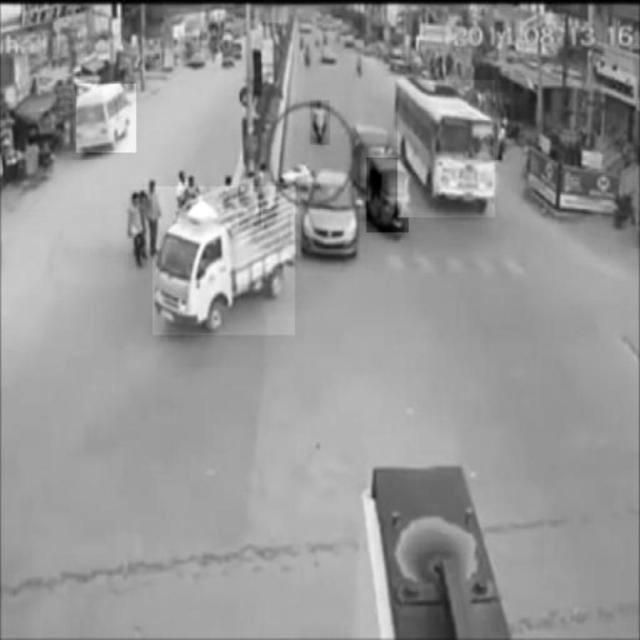person: (129, 190, 147, 270)
vehicle: (153, 187, 295, 335), (398, 80, 496, 217), (304, 170, 360, 260), (77, 84, 137, 152), (367, 157, 409, 233), (311, 100, 331, 145)
